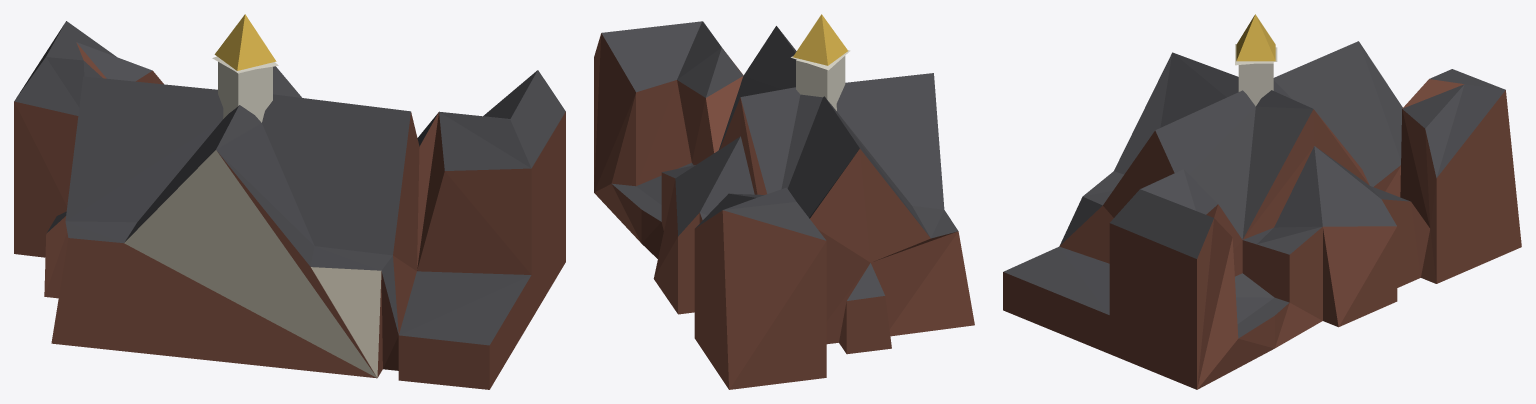
The model's file is nassaukerk.lod2.glb.
3 renders of one model, left to right at view 1: azimuth 30°, elevation 25°; view 2: azimuth 150°, elevation 25°; view 3: azimuth 270°, elevation 25°, orthographic. The views are drawn at different scales.
Parts seen in each view (by area): view 1: lod2; view 2: lod2; view 3: lod2.
Part boxes in pixels (x1,y1,x2,y2): lod2: [14, 14, 565, 389]; lod2: [594, 14, 974, 389]; lod2: [1003, 14, 1521, 389].
Bounding box in the file's own units: 43.07 × 25.76 × 47.57.
